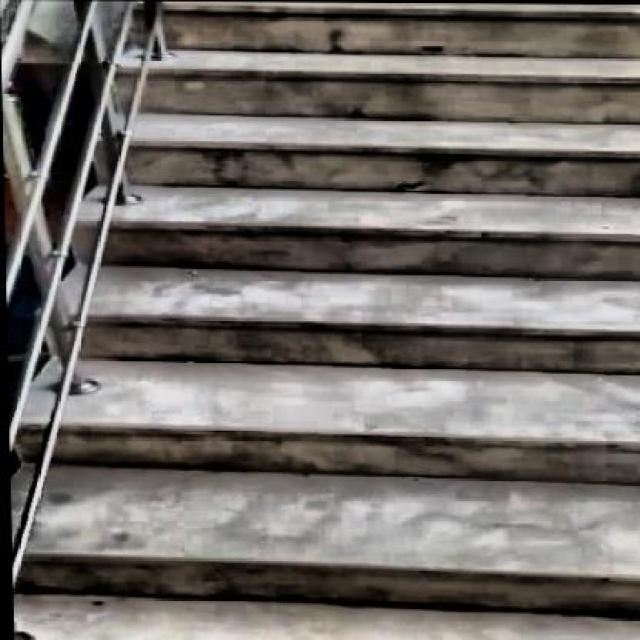stair: (26, 0, 638, 635)
